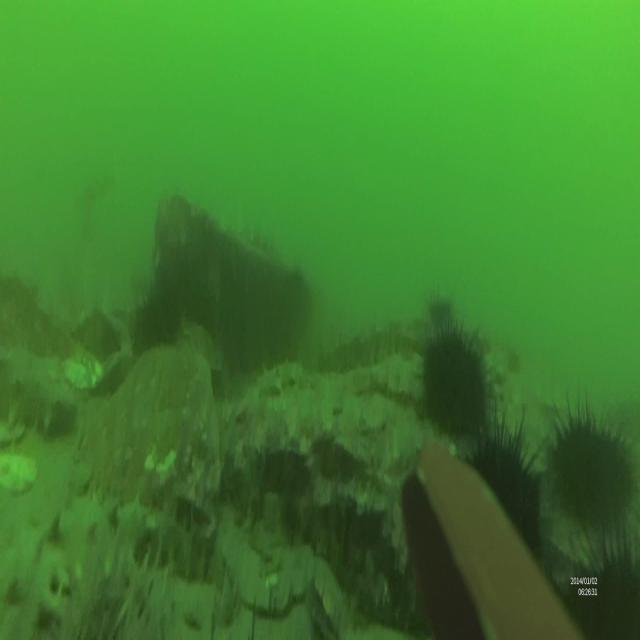echinus: (467, 408, 541, 561), (550, 397, 634, 516), (421, 320, 481, 431), (576, 535, 640, 634), (130, 283, 178, 356), (426, 282, 454, 326)
holothurian: (3, 494, 162, 638), (1, 345, 78, 438), (253, 361, 309, 392)
